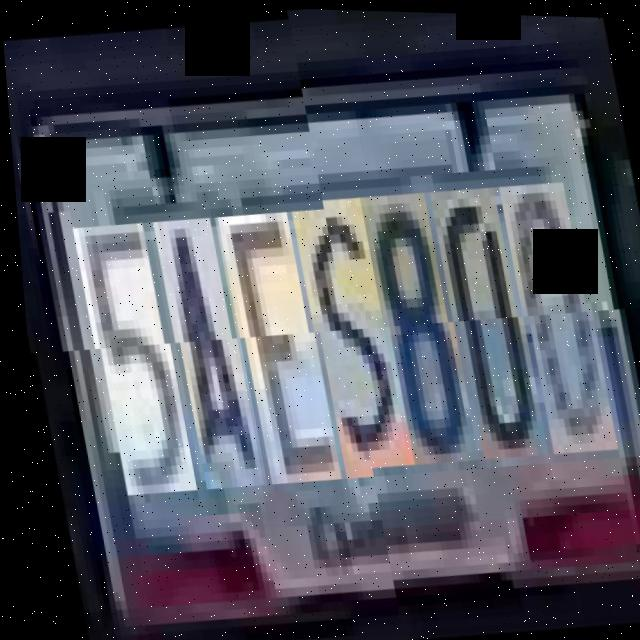0: (432, 191, 543, 466)
5: (73, 220, 190, 496)
8: (363, 197, 473, 472)
A: (153, 214, 259, 489)
E: (217, 208, 334, 484)
O: (502, 185, 612, 460)
S: (293, 202, 409, 478)
